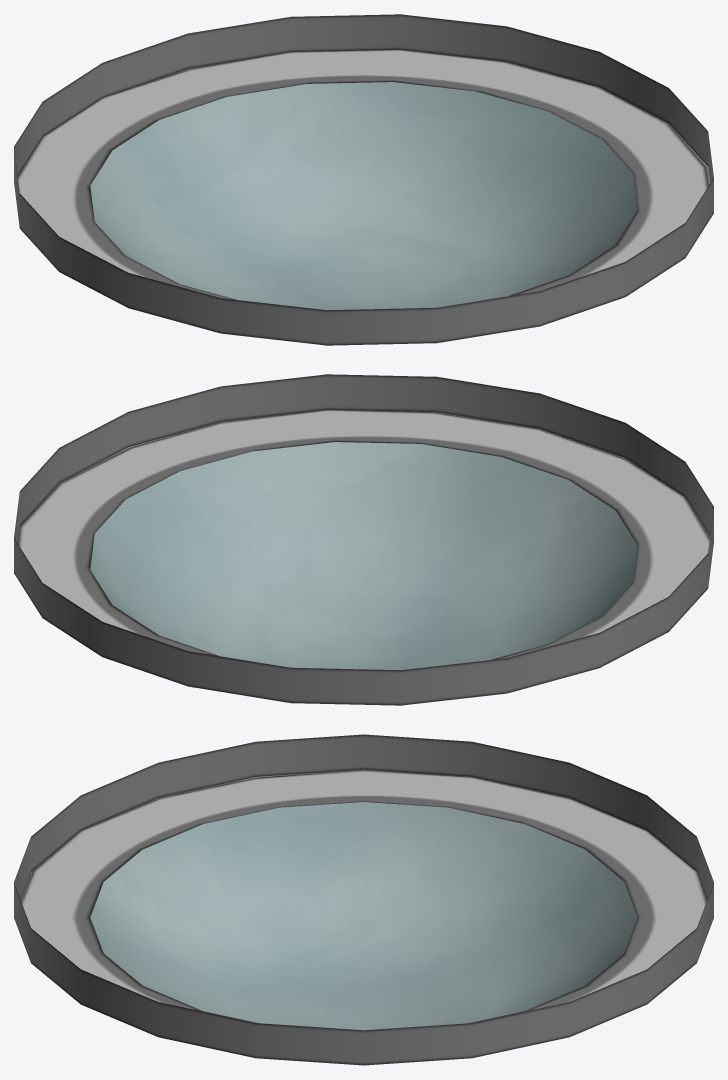
Rendered from light2_off.fbx.
3 renders of one model, top to bottom at view 1: azimuth 30°, elevation 25°; view 2: azimuth 150°, elevation 25°; view 3: azimuth 270°, elevation 25°, orthographic.
Visible parts, largest first — view 1: polySurface1563; view 2: polySurface1563; view 3: polySurface1563.
Boxes of the visible parts, x1,y1,x2,y2 form: polySurface1563: (14, 14, 713, 345); polySurface1563: (14, 374, 713, 705); polySurface1563: (14, 734, 713, 1065).
Bounding box in the file's own units: 0.4639 × 0.099 × 0.4639.
